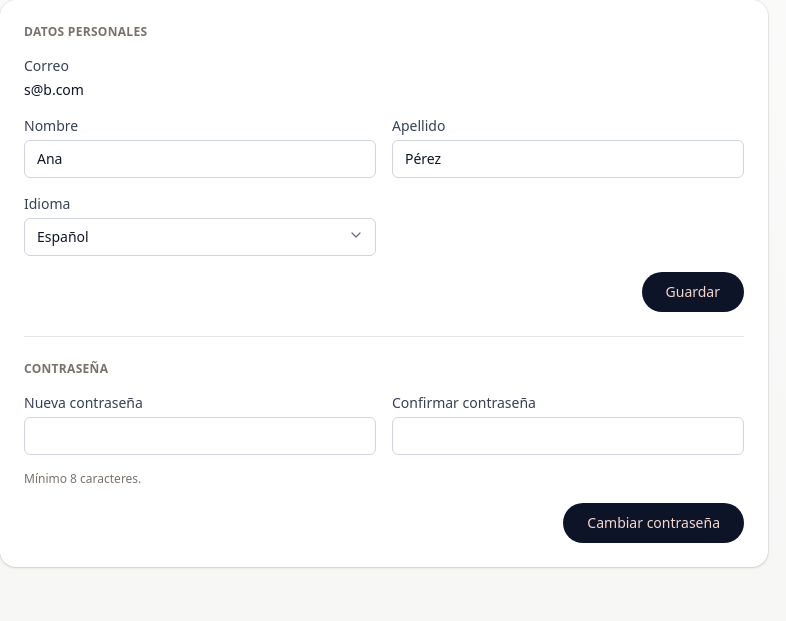
ProfileSection › saves trimmed names and confirms
Replace the text in the field labelled "Nombre" with "  Lucía ": point(200, 159) [24,140,376,178]
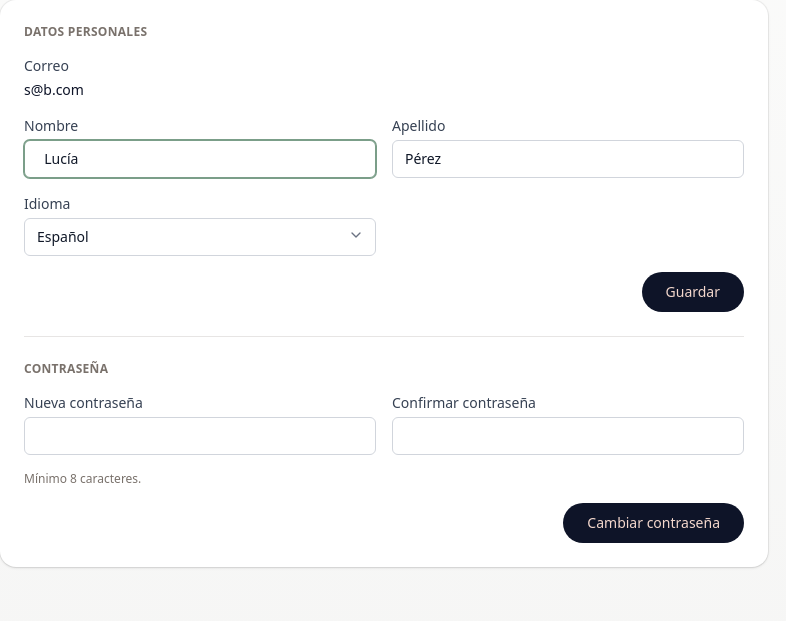
Click the button "Guardar": point(693, 292) [642,272,744,312]
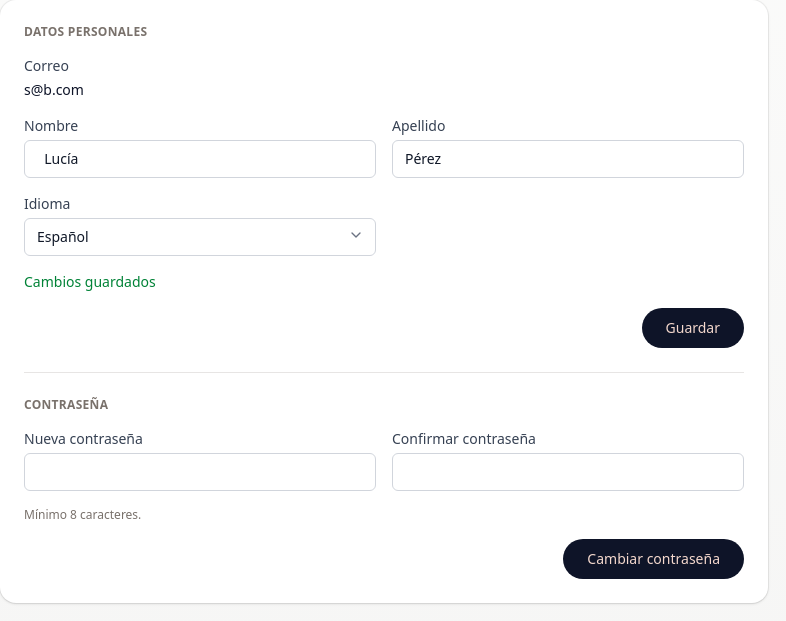
Expected: the message reads "Cambios guardados", [24,272,156,291]
